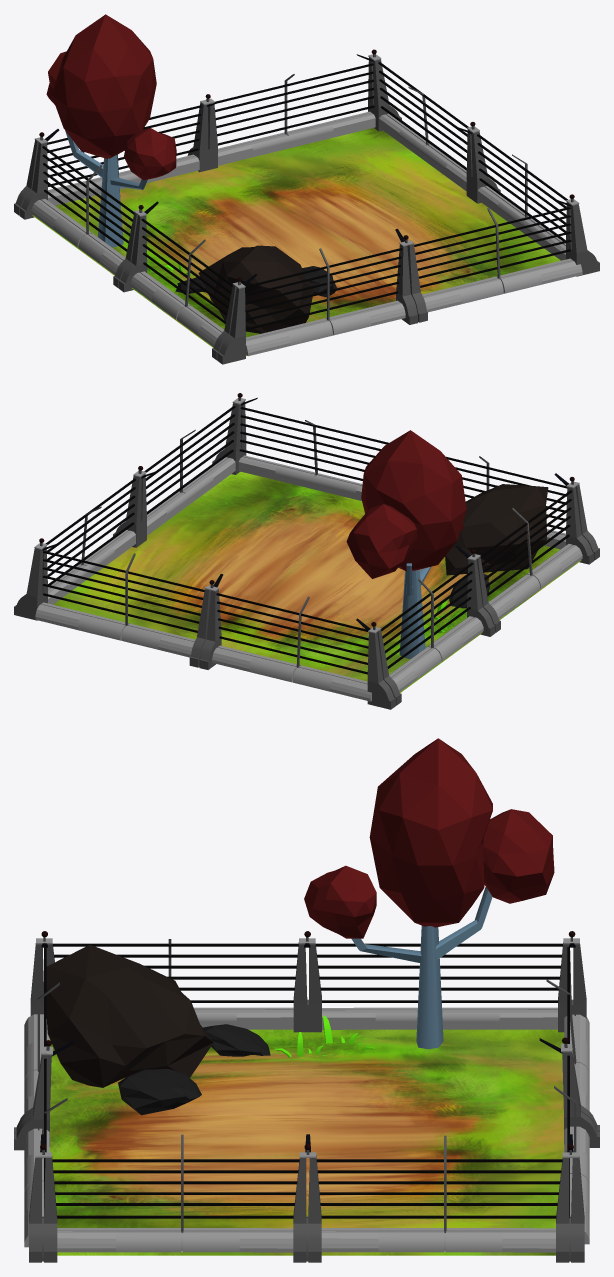
File: Cage_6.fbx
The picture shows the model from 3 angles, top to bottom: view 1: azimuth 30°, elevation 25°; view 2: azimuth 150°, elevation 25°; view 3: azimuth 270°, elevation 25°; orthographic projection. The views are drawn at different scales.
Visible parts, largest first — view 1: Cage_6; view 2: Cage_6; view 3: Cage_6.
Boxes of the visible parts, x1,y1,x2,y2 form: Cage_6: (14,14,599,364); Cage_6: (14,393,599,709); Cage_6: (14,738,599,1262).
Bounding box in the file's own units: 22.91 × 13.83 × 22.5.
